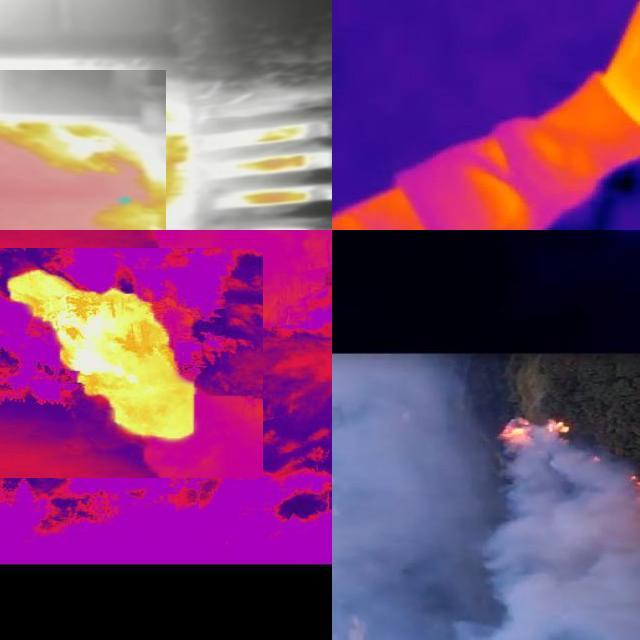fire: (1, 249, 263, 479), (1, 71, 166, 231), (499, 417, 575, 449), (618, 474, 640, 545)
